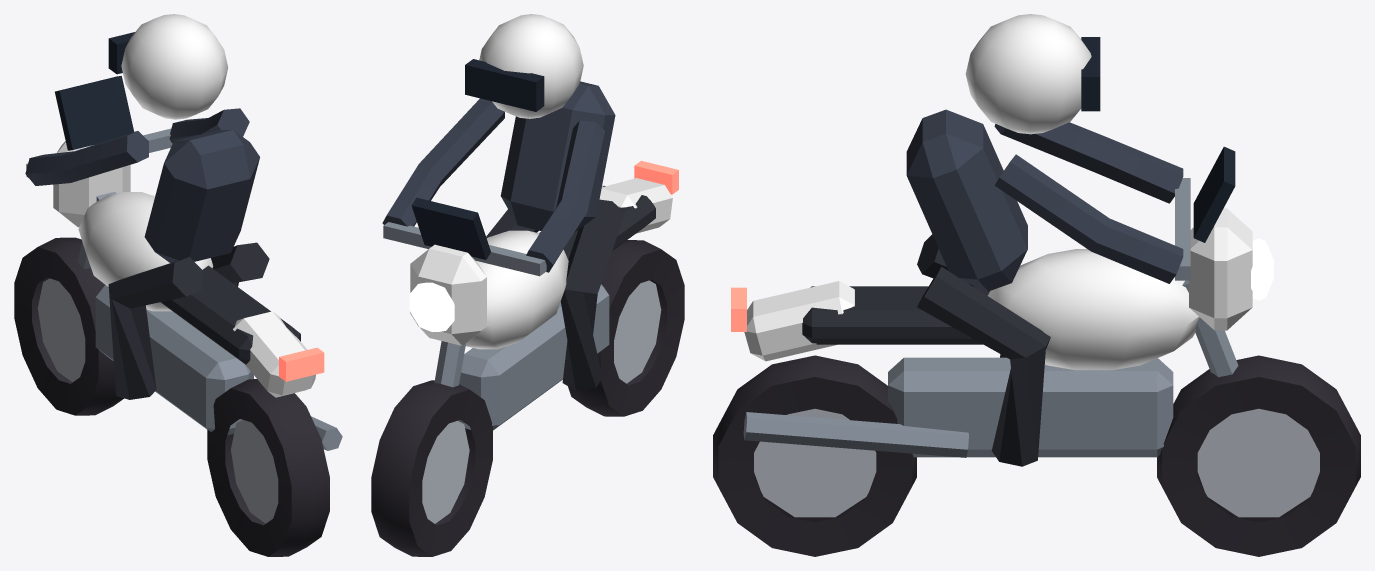
The model's file is moto.glb.
The picture shows the model from 3 angles, left to right: view 1: azimuth 30°, elevation 25°; view 2: azimuth 150°, elevation 25°; view 3: azimuth 270°, elevation 25°; orthographic projection. The views are drawn at different scales.
Parts seen in each view (by area): view 1: moto; view 2: moto; view 3: moto.
Part boxes in pixels (box(x1,y1,x2,y2)): moto: box(14, 14, 342, 556); moto: box(371, 14, 684, 556); moto: box(713, 14, 1360, 556).
Size of the model in its own units: 0.72 by 1.85 by 2.04.
